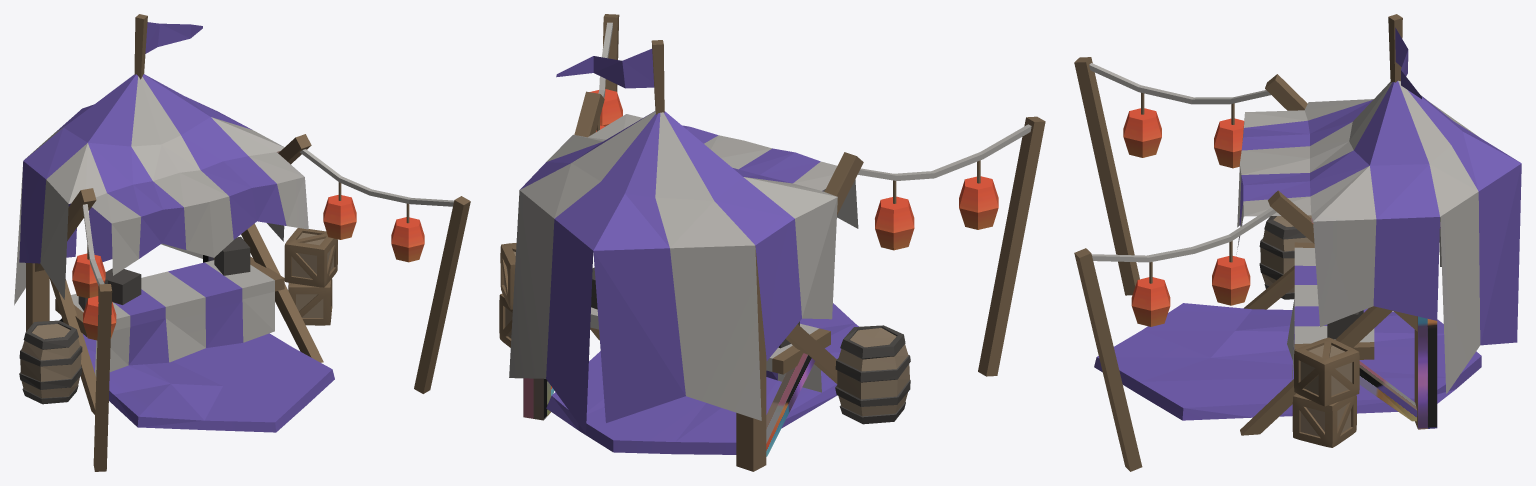
File: nightmarket.fbx
3 views of the same model, side by side, from view 1: azimuth 30°, elevation 25°; view 2: azimuth 150°, elevation 25°; view 3: azimuth 270°, elevation 25° (orthographic). The views are drawn at different scales.
Visible parts, largest first — view 1: nightmarket; view 2: nightmarket; view 3: nightmarket.
Boxes of the visible parts, x1,y1,x2,y2 form: nightmarket: (14, 14, 470, 471); nightmarket: (499, 14, 1045, 471); nightmarket: (1074, 14, 1521, 471).
Bounding box in the file's own units: 2.78 × 2.35 × 2.62.
Materials: 1 (1 with a texture image).
